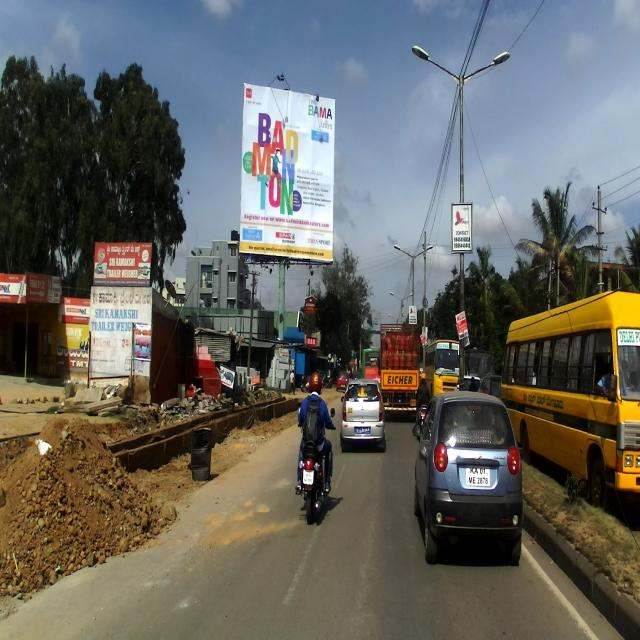Car_Chevrolet: (413, 394, 524, 570)
Car_TATA: (339, 377, 386, 450)
bus: (503, 290, 639, 509)
motorcycle_RoyalEnfield: (296, 402, 336, 528)
truck: (377, 323, 423, 420)
